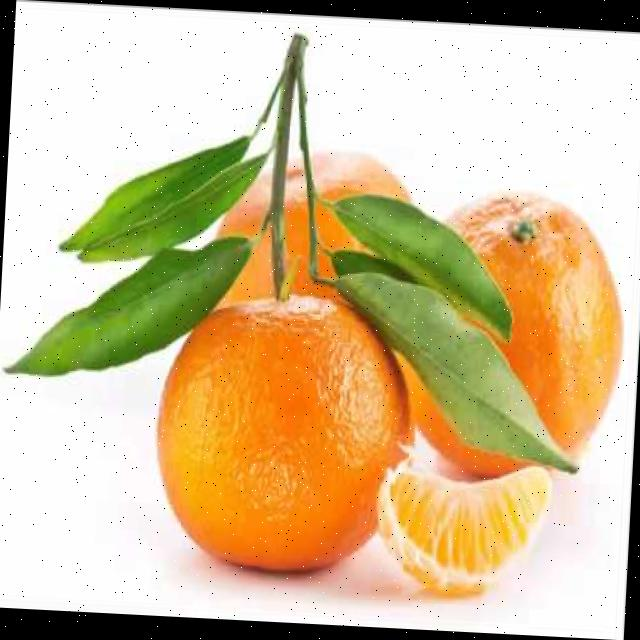Jeruk: (150, 284, 422, 580), (396, 184, 632, 485), (211, 142, 414, 321), (372, 447, 554, 602)
